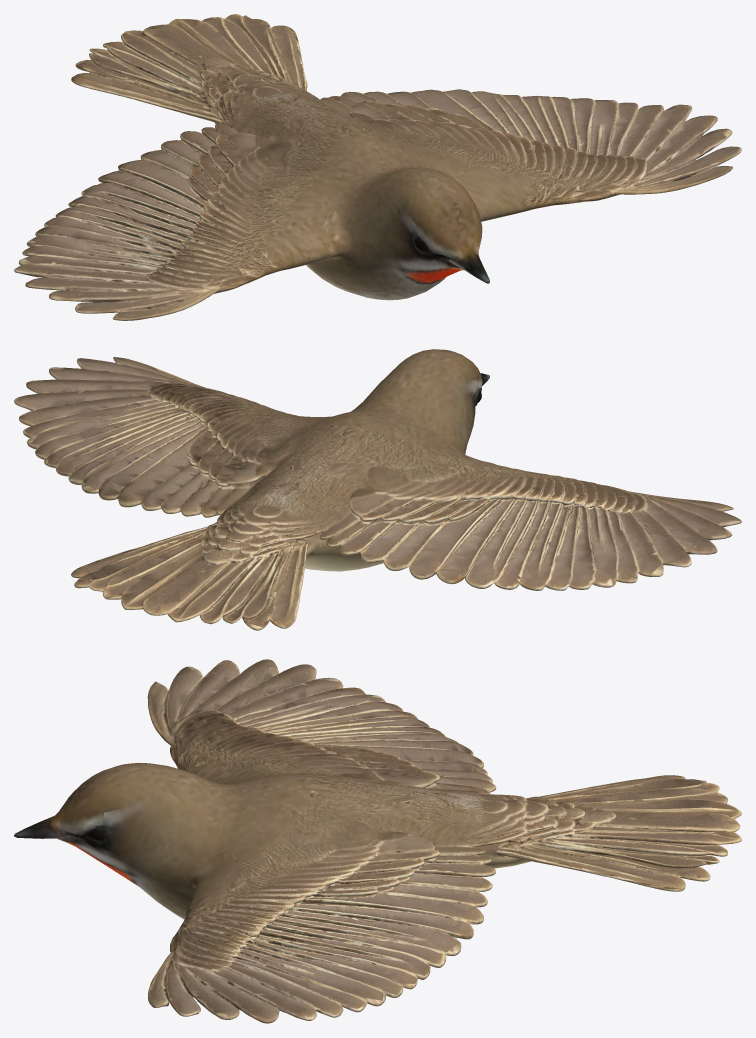
The model's file is Calliope_calliope.glb.
3 views of the same model, one above another, from view 1: azimuth 30°, elevation 25°; view 2: azimuth 150°, elevation 25°; view 3: azimuth 270°, elevation 25° (orthographic). The views are drawn at different scales.
Visible parts, largest first — view 1: orient; view 2: orient; view 3: orient.
Part boxes in pixels (x1,y1,x2,y2): orient: (14, 14, 741, 320); orient: (14, 349, 741, 630); orient: (14, 659, 741, 1023).
Size of the model in its own units: 0.4999 by 0.1054 by 0.4245.
Materials: 1 (1 with a texture image).
